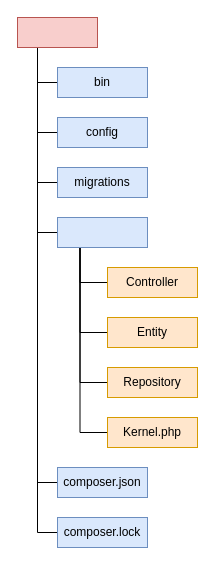
Image size: 215x565. Some labels were removed from this diagram. Here are the shapes that lost their labels. From the top down, the centre of each, then its label:
At [57,32]: "project root".
At [102,232]: "src".
